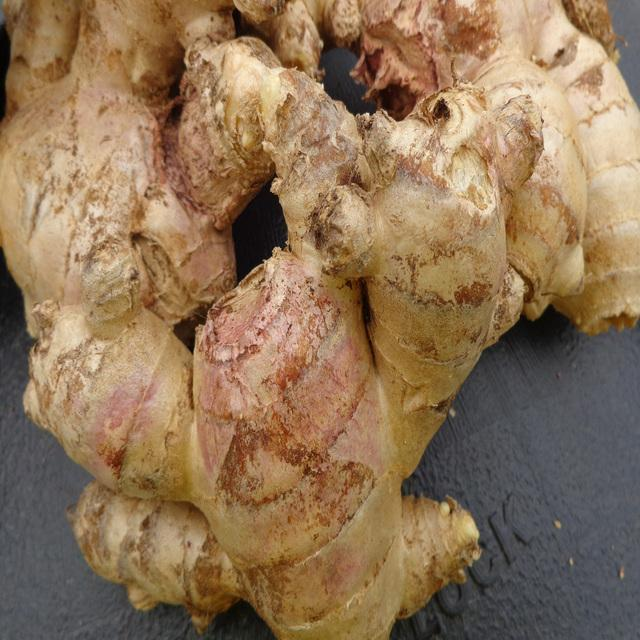ginger: (18, 9, 480, 534)
